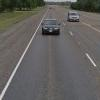Car: (37, 12, 63, 43)
